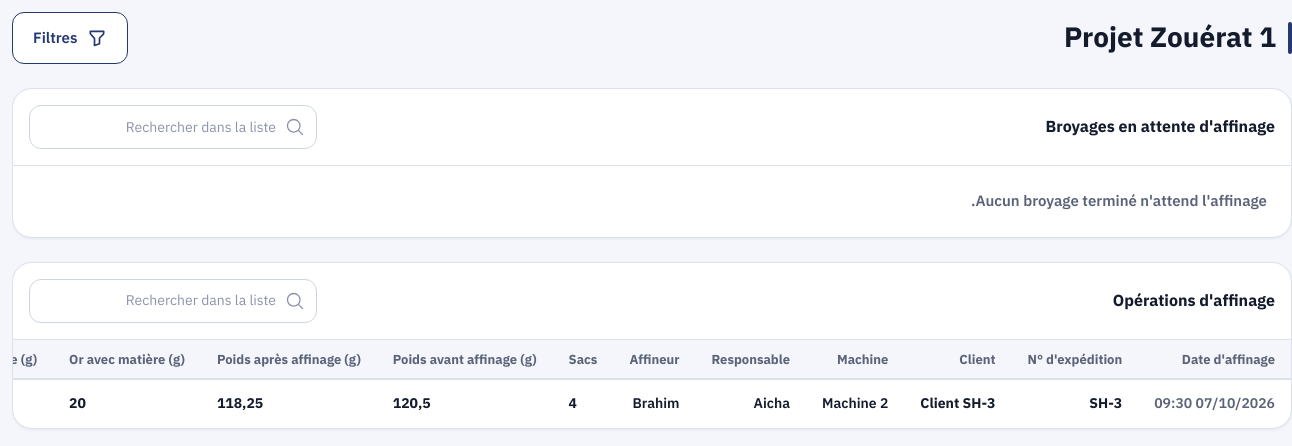
RefiningScreen › asks the backend for each list's own search and keeps both in the address
In the search field with placeholder "Rechercher dans la liste" in the row of "Opérations d'affinage": (173, 300) x1=29 y1=278 x2=317 y2=322, type "aicha"
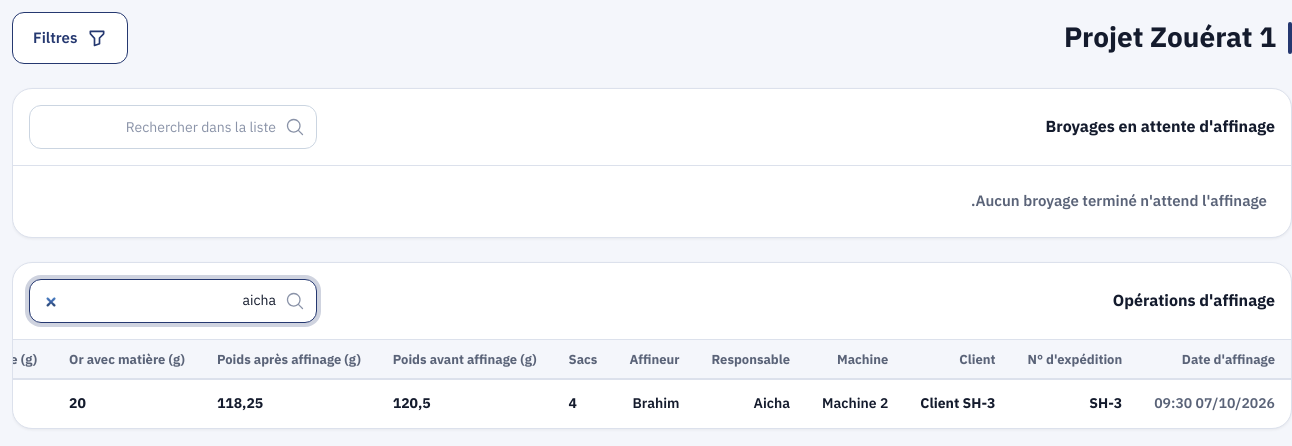
In the search field with placeholder "Rechercher dans la liste": (173, 127) x1=29 y1=105 x2=317 y2=149, type "SH-9"
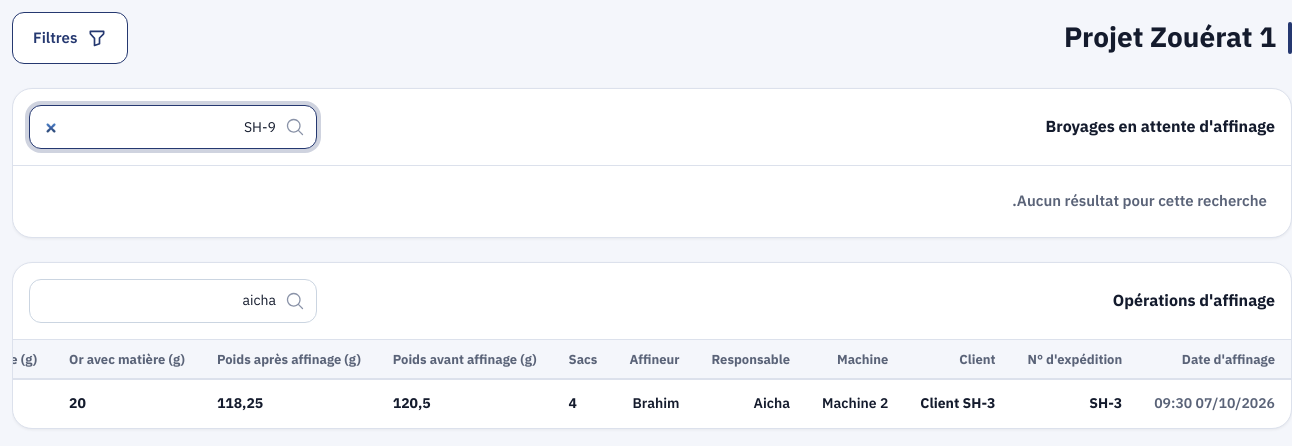
Expected: the text "Aucun résultat pour cette recherche." is shown, x1=1012 y1=190 x2=1267 y2=212
